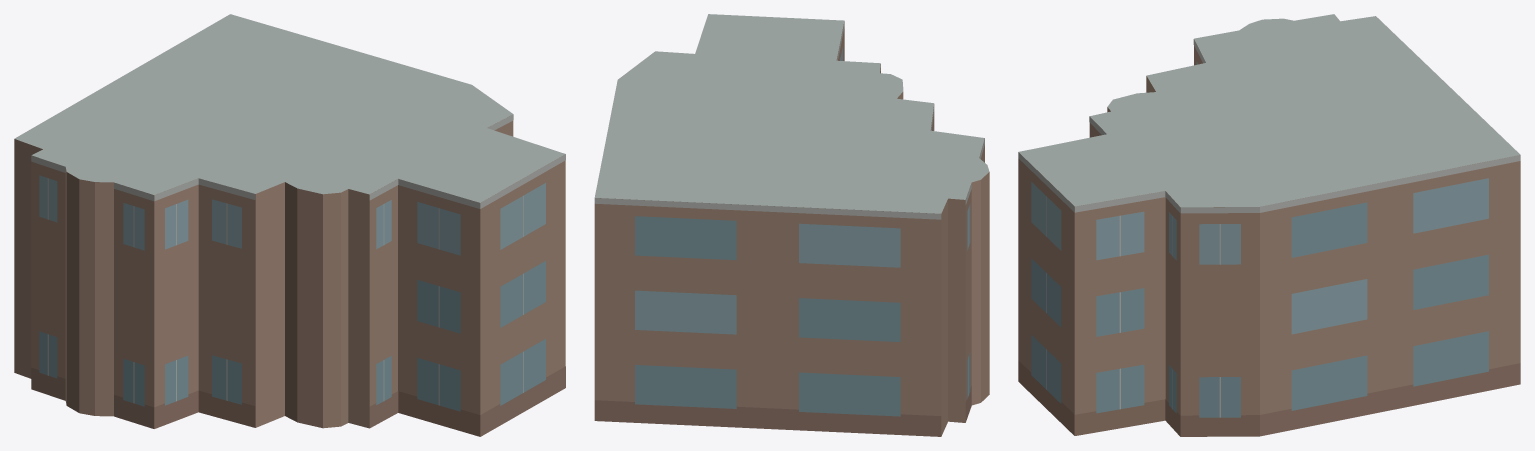
The model's file is survey-upis-32721977.glb.
3 views of the same model, side by side, from view 1: azimuth 30°, elevation 25°; view 2: azimuth 150°, elevation 25°; view 3: azimuth 270°, elevation 25° (orthographic). The views are drawn at different scales.
Visible parts, largest first — view 1: survey-upis-32721977.tmp; view 2: survey-upis-32721977.tmp; view 3: survey-upis-32721977.tmp.
Part boxes in pixels (bbox=[...]): survey-upis-32721977.tmp: bbox=[14, 14, 565, 436]; survey-upis-32721977.tmp: bbox=[594, 14, 989, 436]; survey-upis-32721977.tmp: bbox=[1018, 14, 1520, 436].
Size of the model in its own units: 16.54 by 9.15 by 18.16.
